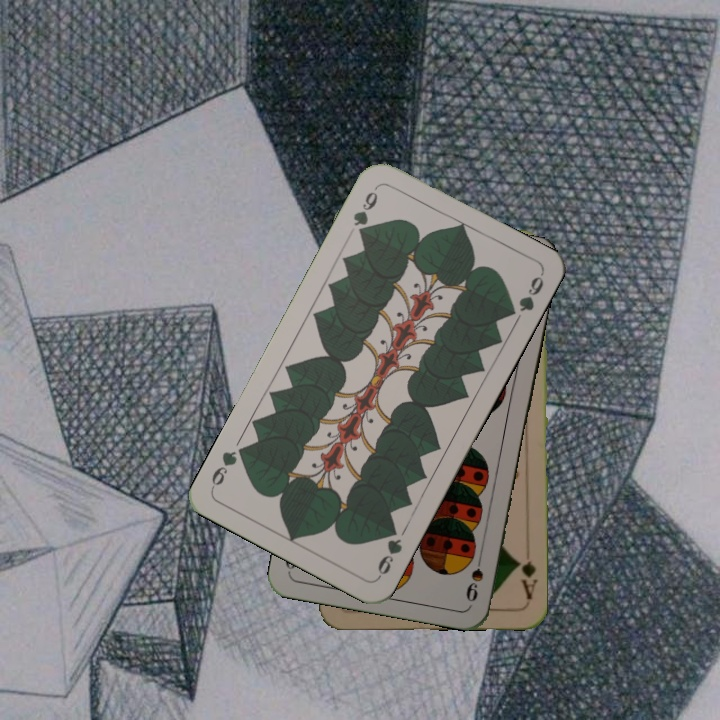G9: (373, 522, 405, 581), (349, 182, 381, 240)
GA: (512, 556, 539, 602)
S9: (462, 546, 486, 605)
